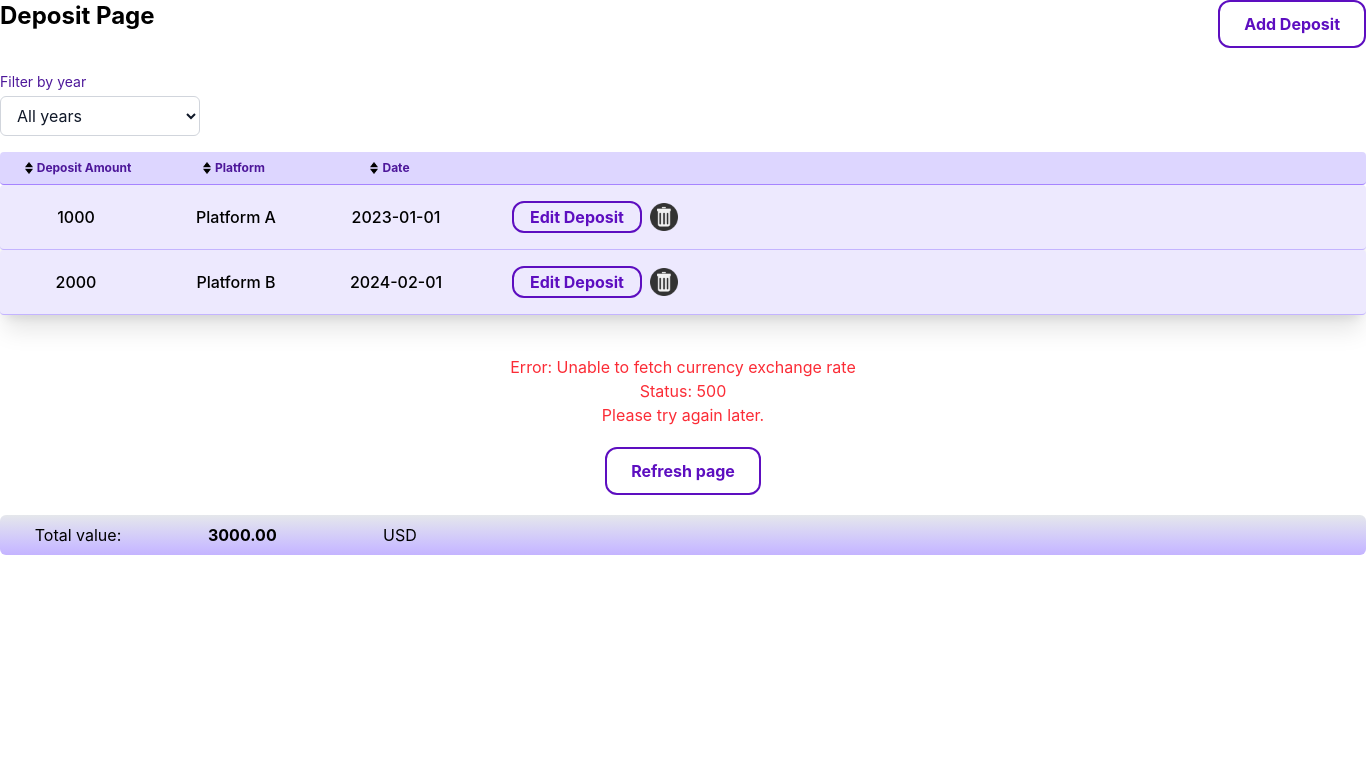
Deposit Page tests › error should appear on providing invalid data
The image size is (1366, 768).
Click the button "Add Deposit": click(1292, 24) [1218, 0, 1365, 48]
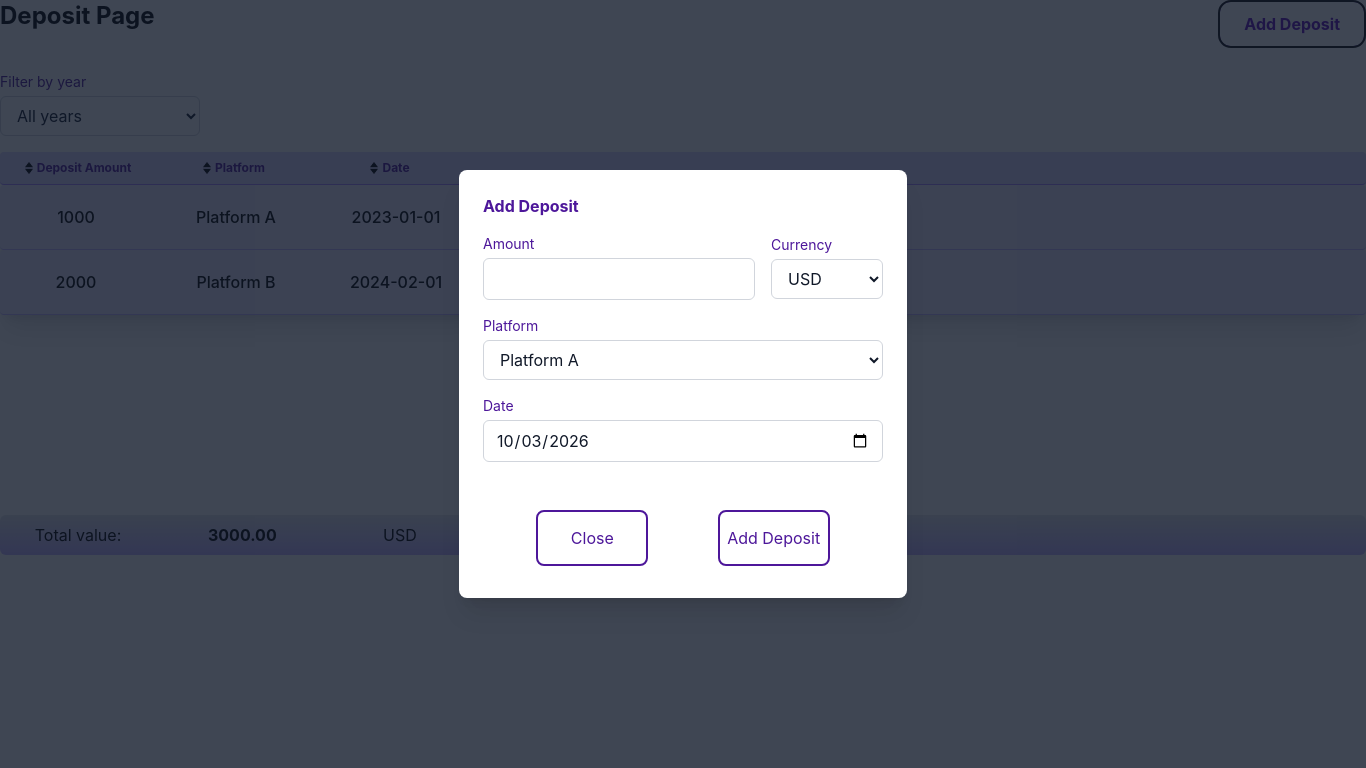
Check: the number field labelled "Amount" is shown
Check: the dropdown labelled "Platform" is shown, box [483, 340, 883, 380]
Check: the dropdown labelled "Currency" is shown, box [771, 259, 883, 299]
In the number field labelled "Amount": (619, 279) [483, 258, 755, 300], type "-1000"
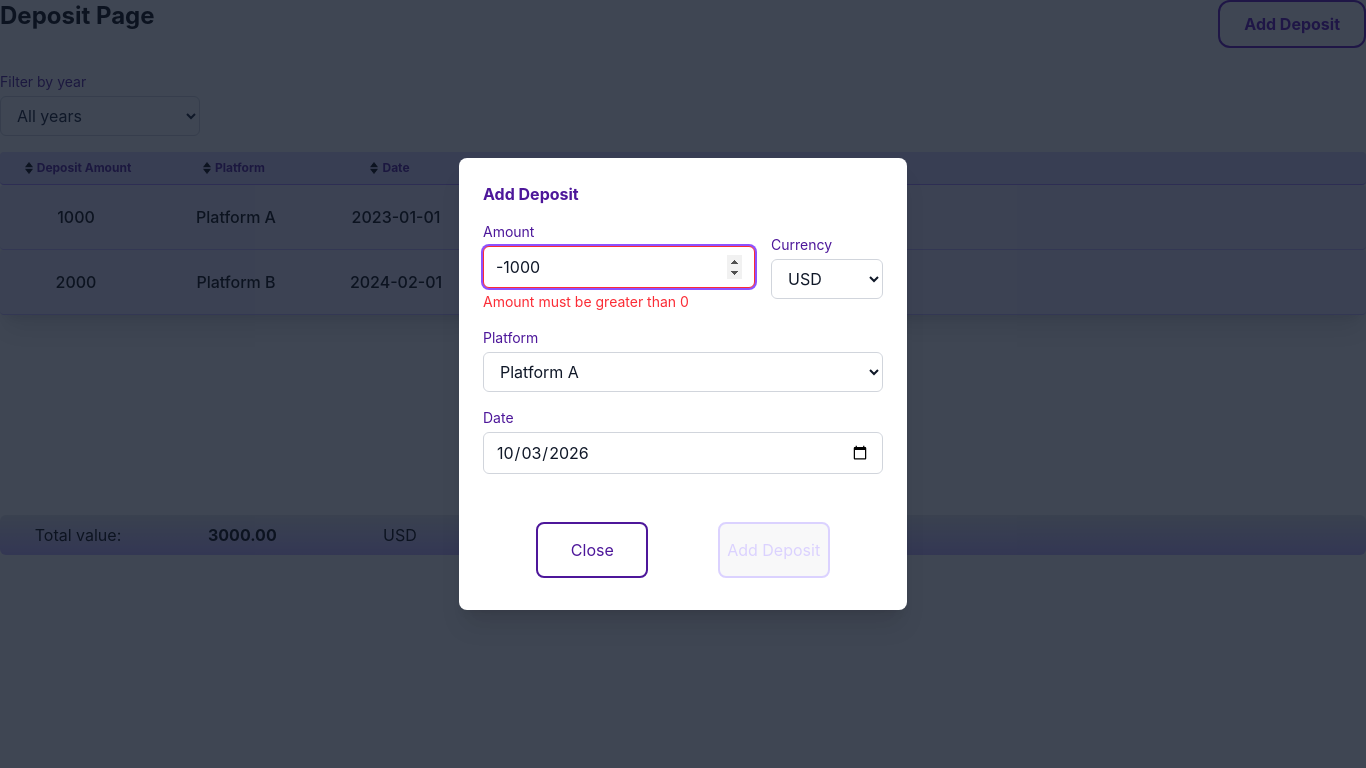
Check: the text "Amount must be greater than 0" is shown, box [483, 293, 689, 310]
